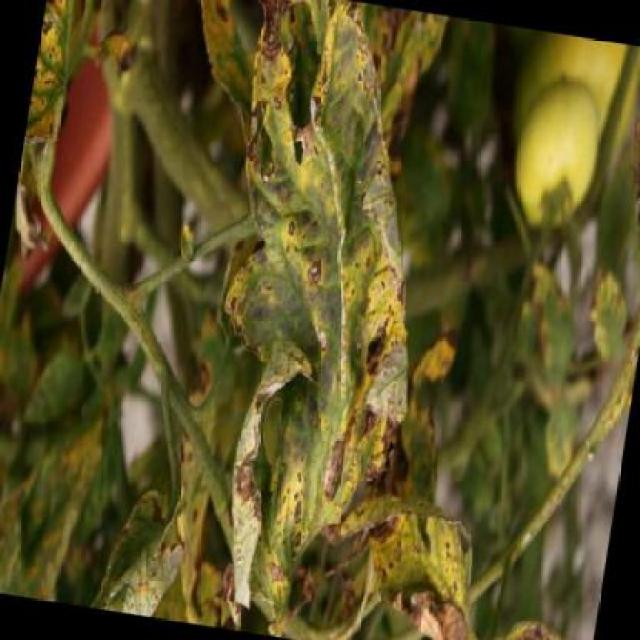Septoria leaf spot: (167, 1, 473, 633), (339, 490, 539, 640)
